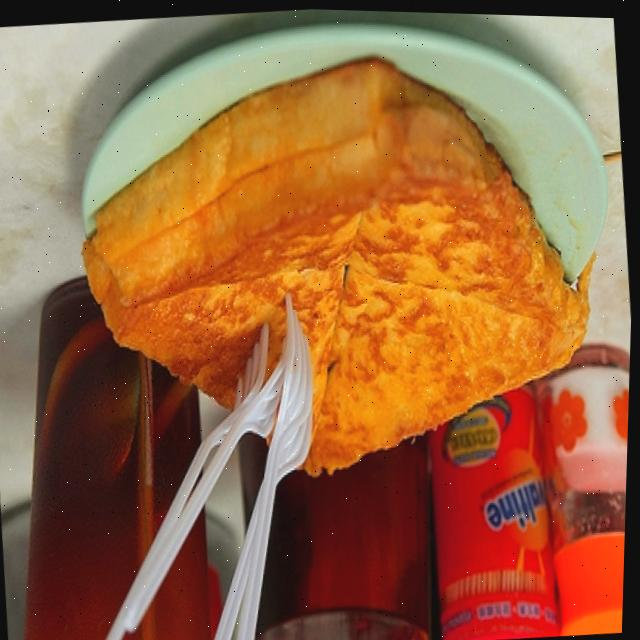面包点心: (33, 1, 640, 610)
